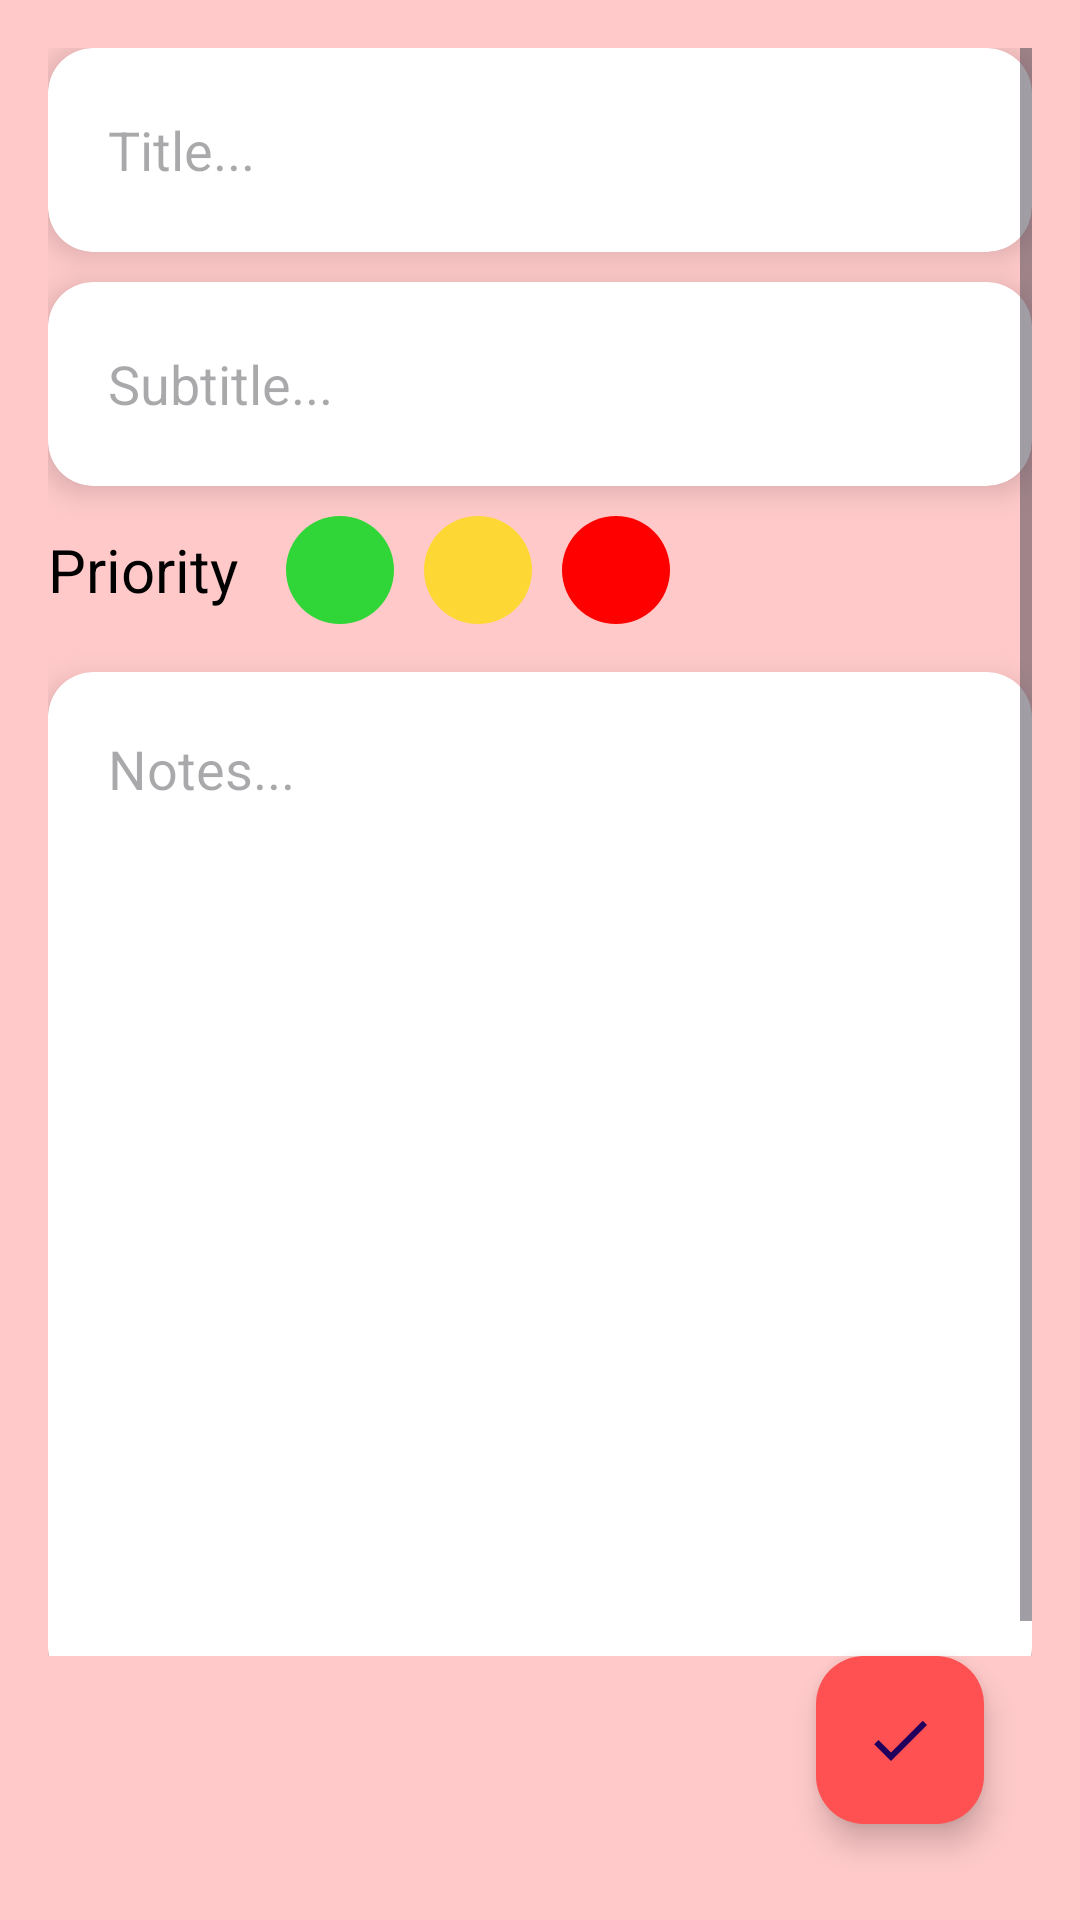

Named icons in this screenshot (1080px×1920px) and their centers, [x,y]:
doneicon: [900,1740]
